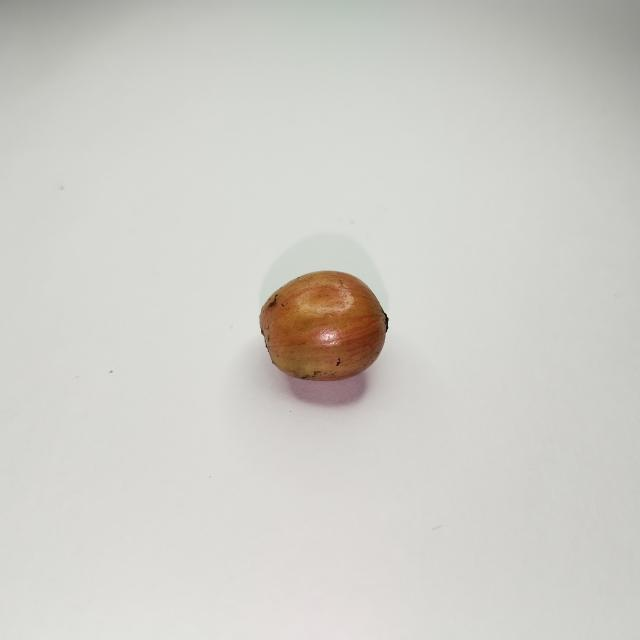Sano: (261, 271, 387, 380)
